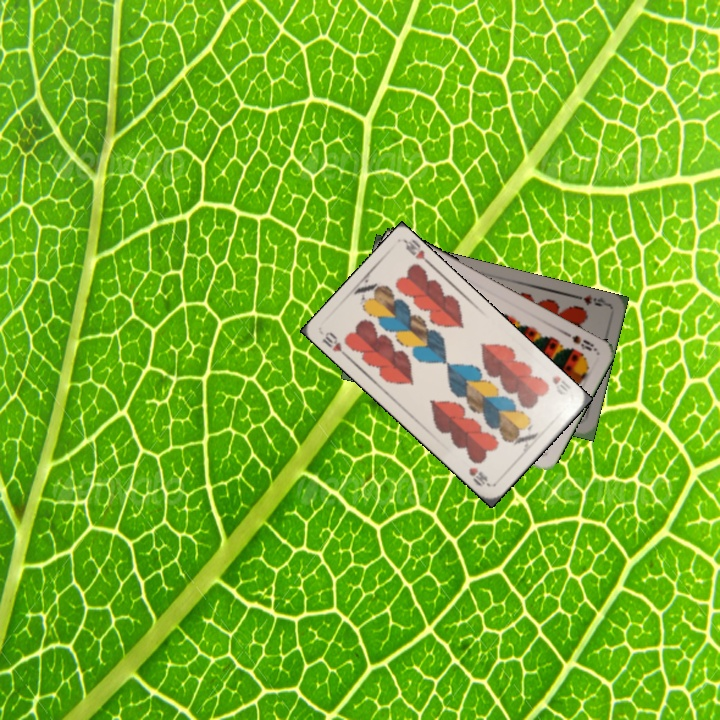H10: (318, 328, 351, 361), (548, 371, 571, 398)
H9: (570, 291, 610, 309)
S8: (562, 329, 600, 354)
